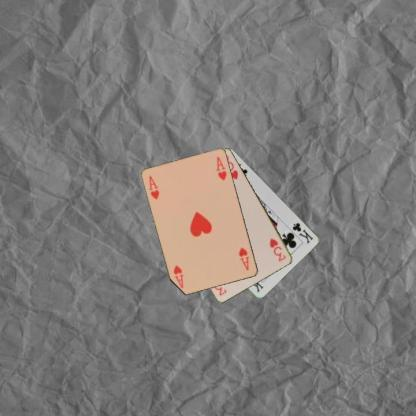3h: (267, 235, 287, 262)
Ah: (236, 245, 250, 272), (146, 174, 160, 200)
Kc: (290, 220, 315, 245)
